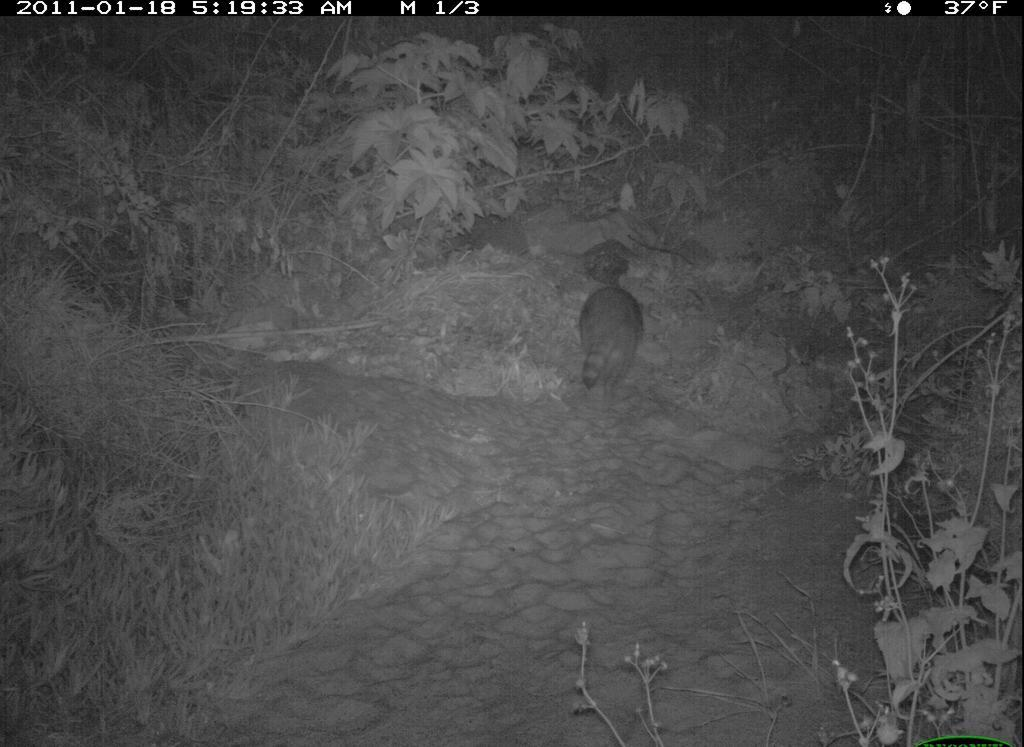raccoon: (574, 272, 647, 400)
